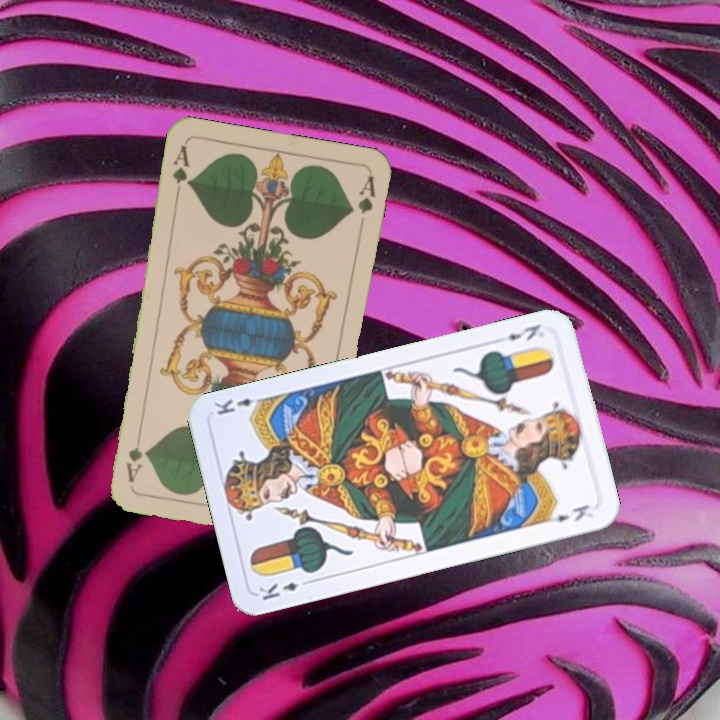EK: (255, 575, 314, 603), (503, 320, 543, 344)
GA: (168, 141, 193, 200)
